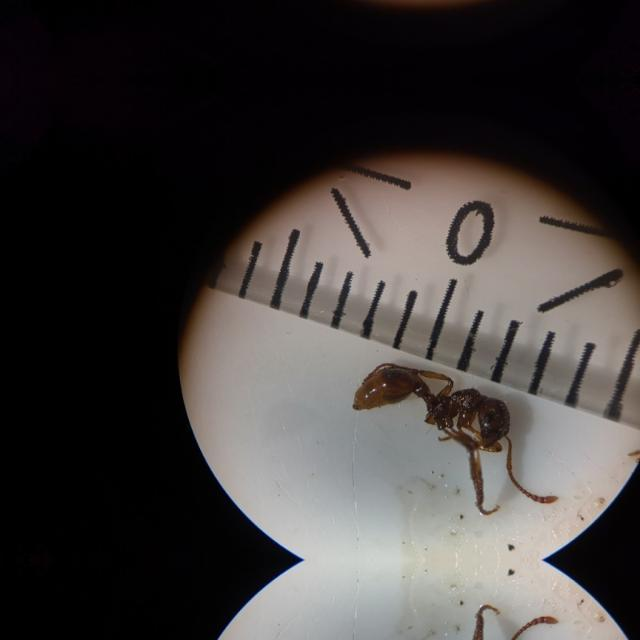Myrmica: (335, 349, 543, 491)
